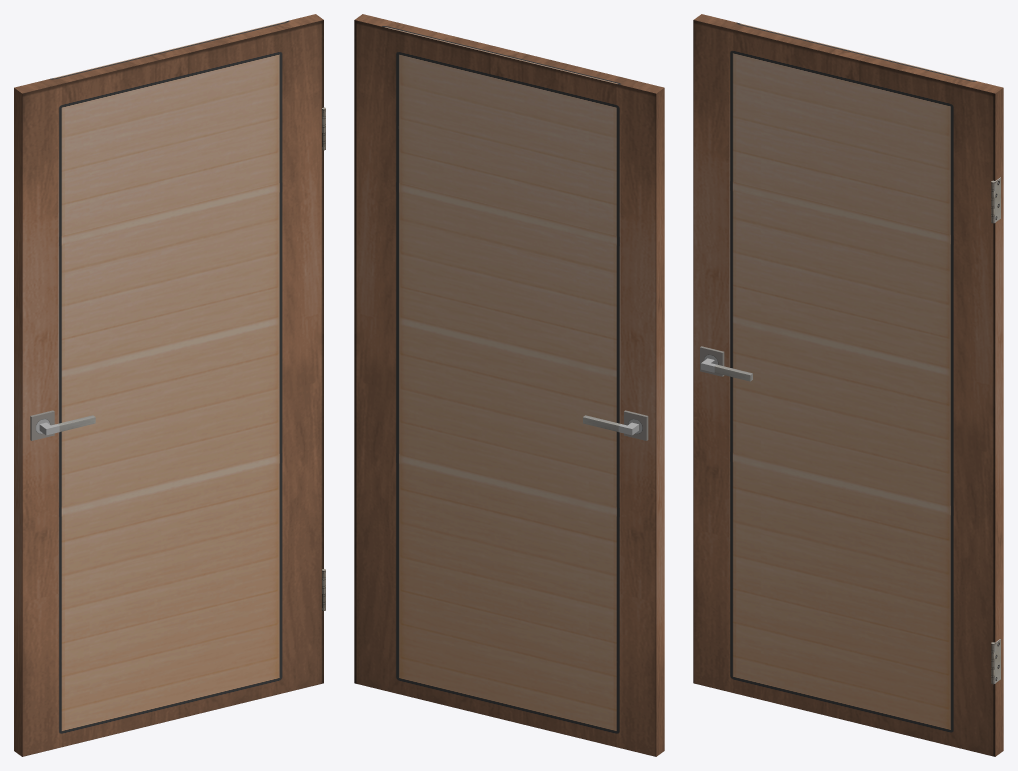
File: Door03.FBX
The picture shows the model from 3 angles, left to right: view 1: azimuth 30°, elevation 25°; view 2: azimuth 150°, elevation 25°; view 3: azimuth 330°, elevation 25°; orthographic projection.
Parts seen in each view (by area): view 1: Door03; view 2: Door03; view 3: Door03.
Boxes of the visible parts, <box> form: Door03: <box>14,14,325,756</box>; Door03: <box>354,14,664,756</box>; Door03: <box>693,14,1003,756</box>.
Size of the model in its own units: 39.53 by 82.76 by 5.57.
